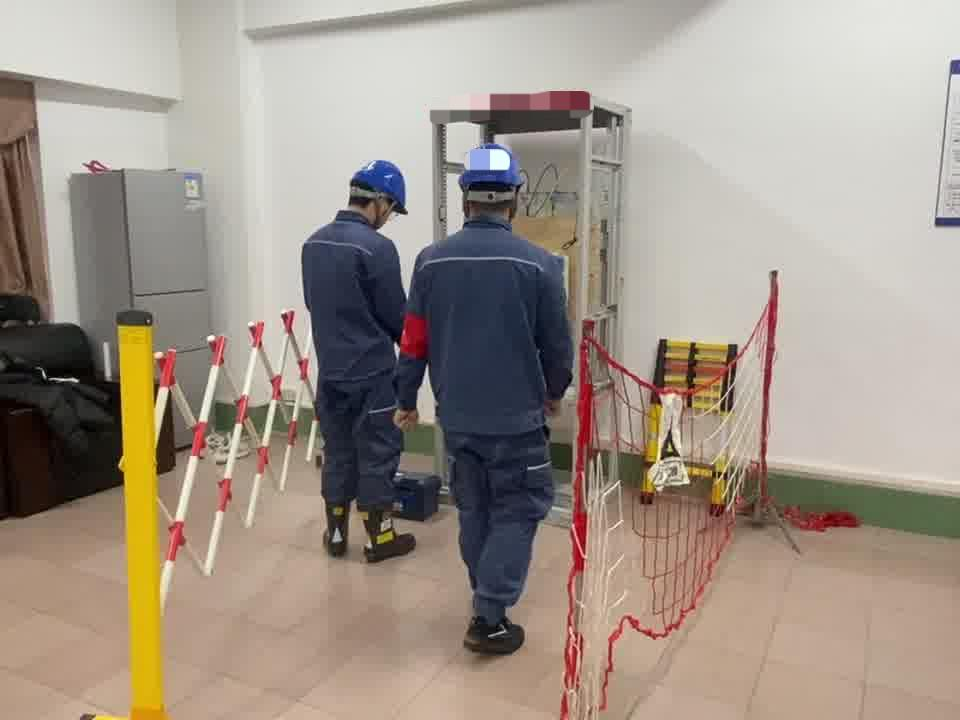halt: (460, 144, 529, 223), (349, 161, 410, 226)
inear: (372, 196, 393, 226)
